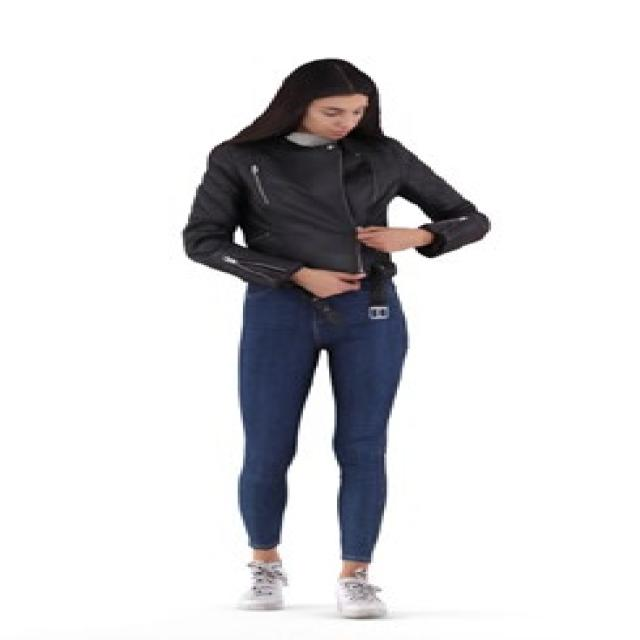standing: (178, 53, 497, 620)
